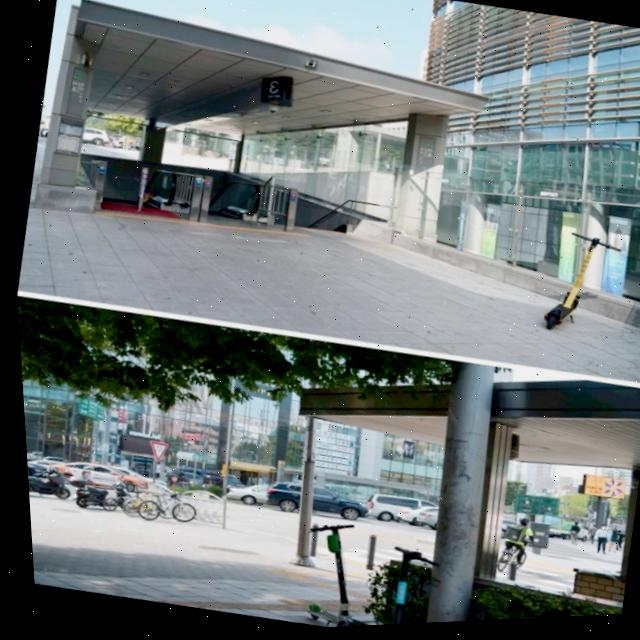kickboard_no: (534, 221, 616, 334), (371, 536, 434, 625)
tactile_paving: (134, 566, 289, 628), (161, 199, 303, 249)
